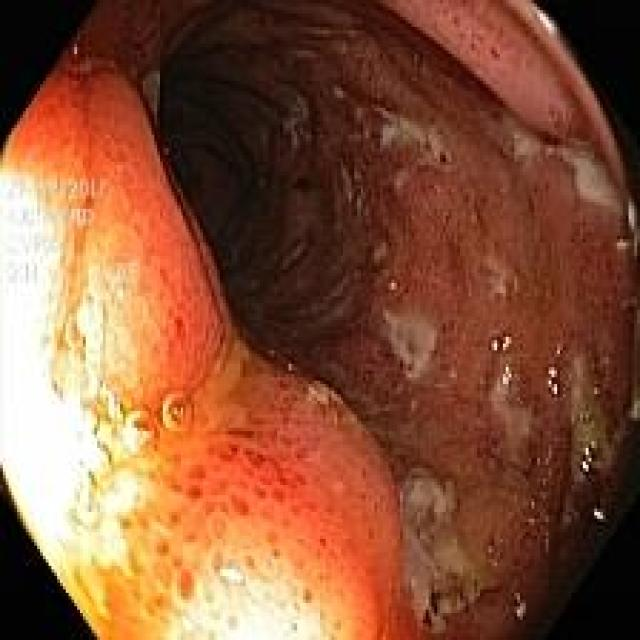ulcerative-colitis-grade-3: (0, 3, 640, 640), (1, 4, 418, 640)
